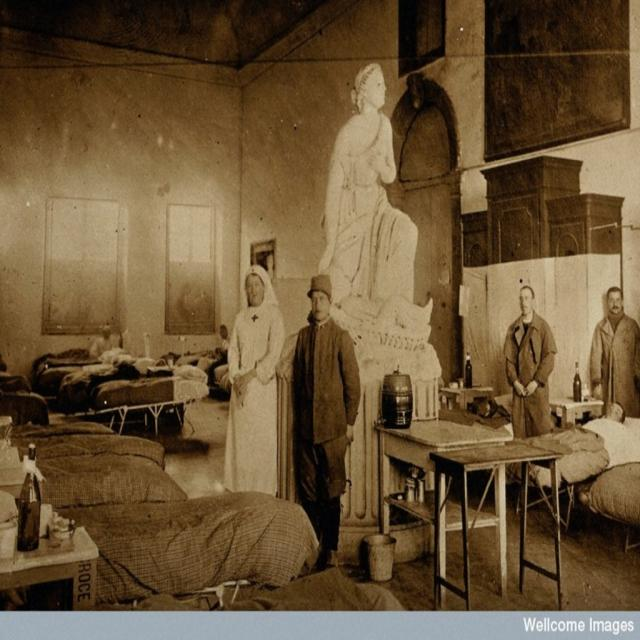desk: (379, 391, 606, 593)
person: (291, 275, 361, 570), (222, 267, 285, 496), (503, 284, 558, 436), (588, 285, 640, 422), (209, 324, 229, 394)
